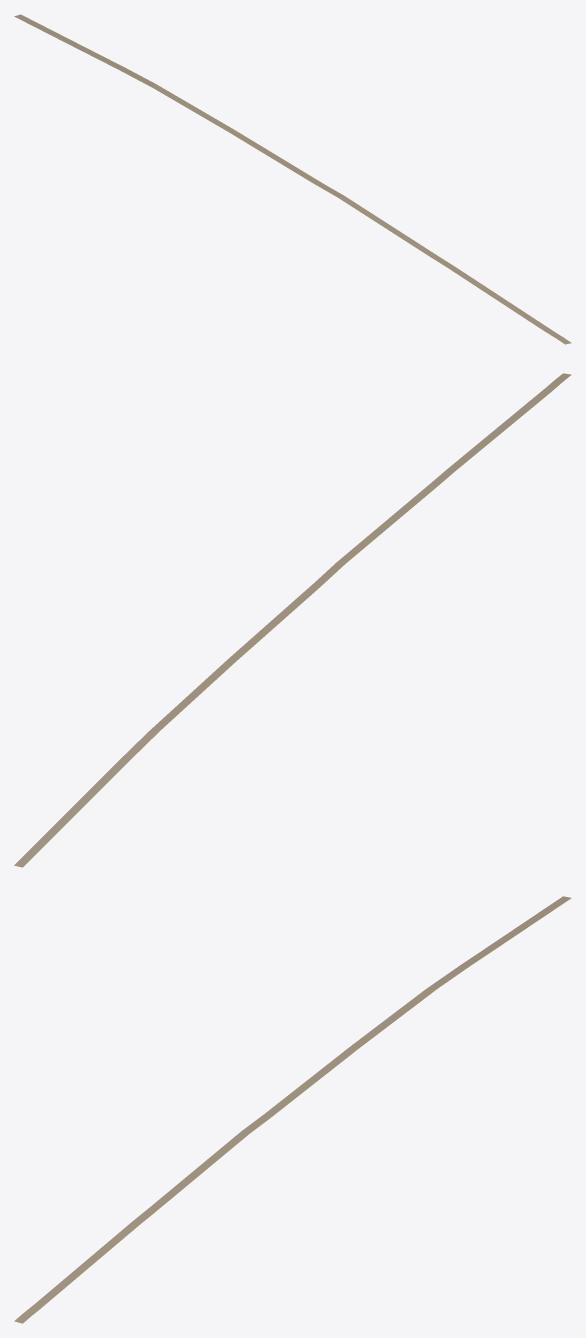
Rendered from farm_3_17_track.glb.
The picture shows the model from 3 angles, top to bottom: view 1: azimuth 30°, elevation 25°; view 2: azimuth 150°, elevation 25°; view 3: azimuth 330°, elevation 25°; orthographic projection. The views are drawn at different scales.
Parts seen in each view (by area): view 1: geometry_0; view 2: geometry_0; view 3: geometry_0.
Part boxes in pixels (left/top/right/bottom): geometry_0: left=14, top=14, right=571, bottom=344; geometry_0: left=14, top=373, right=571, bottom=867; geometry_0: left=14, top=896, right=571, bottom=1323.
Size of the model in its own units: 25.67 by 12.75 by 403.
